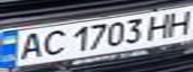0: (106, 18, 130, 47)
1: (66, 24, 90, 53)
3: (124, 16, 151, 44)
7: (87, 20, 109, 51)
A: (12, 29, 48, 62)
C: (36, 27, 69, 57)
H: (142, 11, 178, 40), (160, 7, 193, 37)
